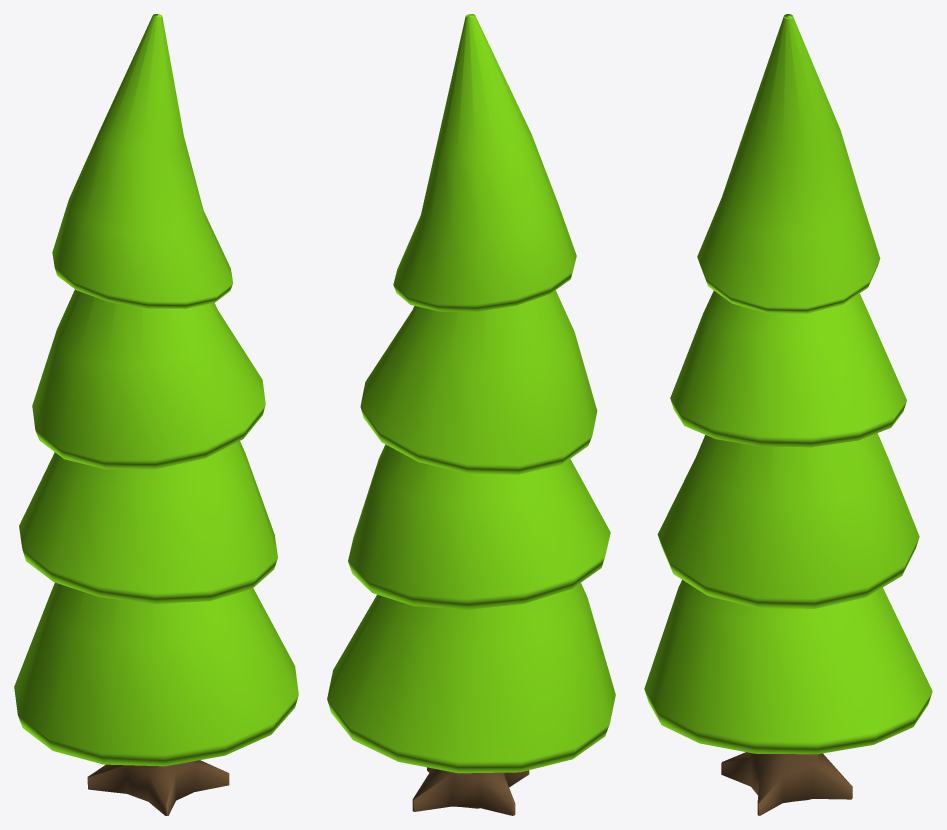
Rendered from Tree1.fbx.
The picture shows the model from 3 angles, left to right: view 1: azimuth 30°, elevation 25°; view 2: azimuth 150°, elevation 25°; view 3: azimuth 270°, elevation 25°; orthographic projection.
Parts seen in each view (by area): view 1: Cone.002; view 2: Cone.002; view 3: Cone.002.
Boxes of the visible parts, bbox=[...] form: Cone.002: bbox=[14, 14, 298, 815]; Cone.002: bbox=[327, 14, 615, 815]; Cone.002: bbox=[644, 14, 932, 815].
Size of the model in its own units: 171 by 518 by 175.
